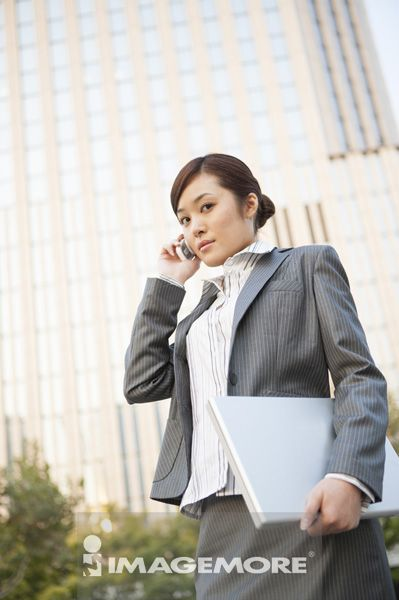talk: (151, 189, 232, 284)
